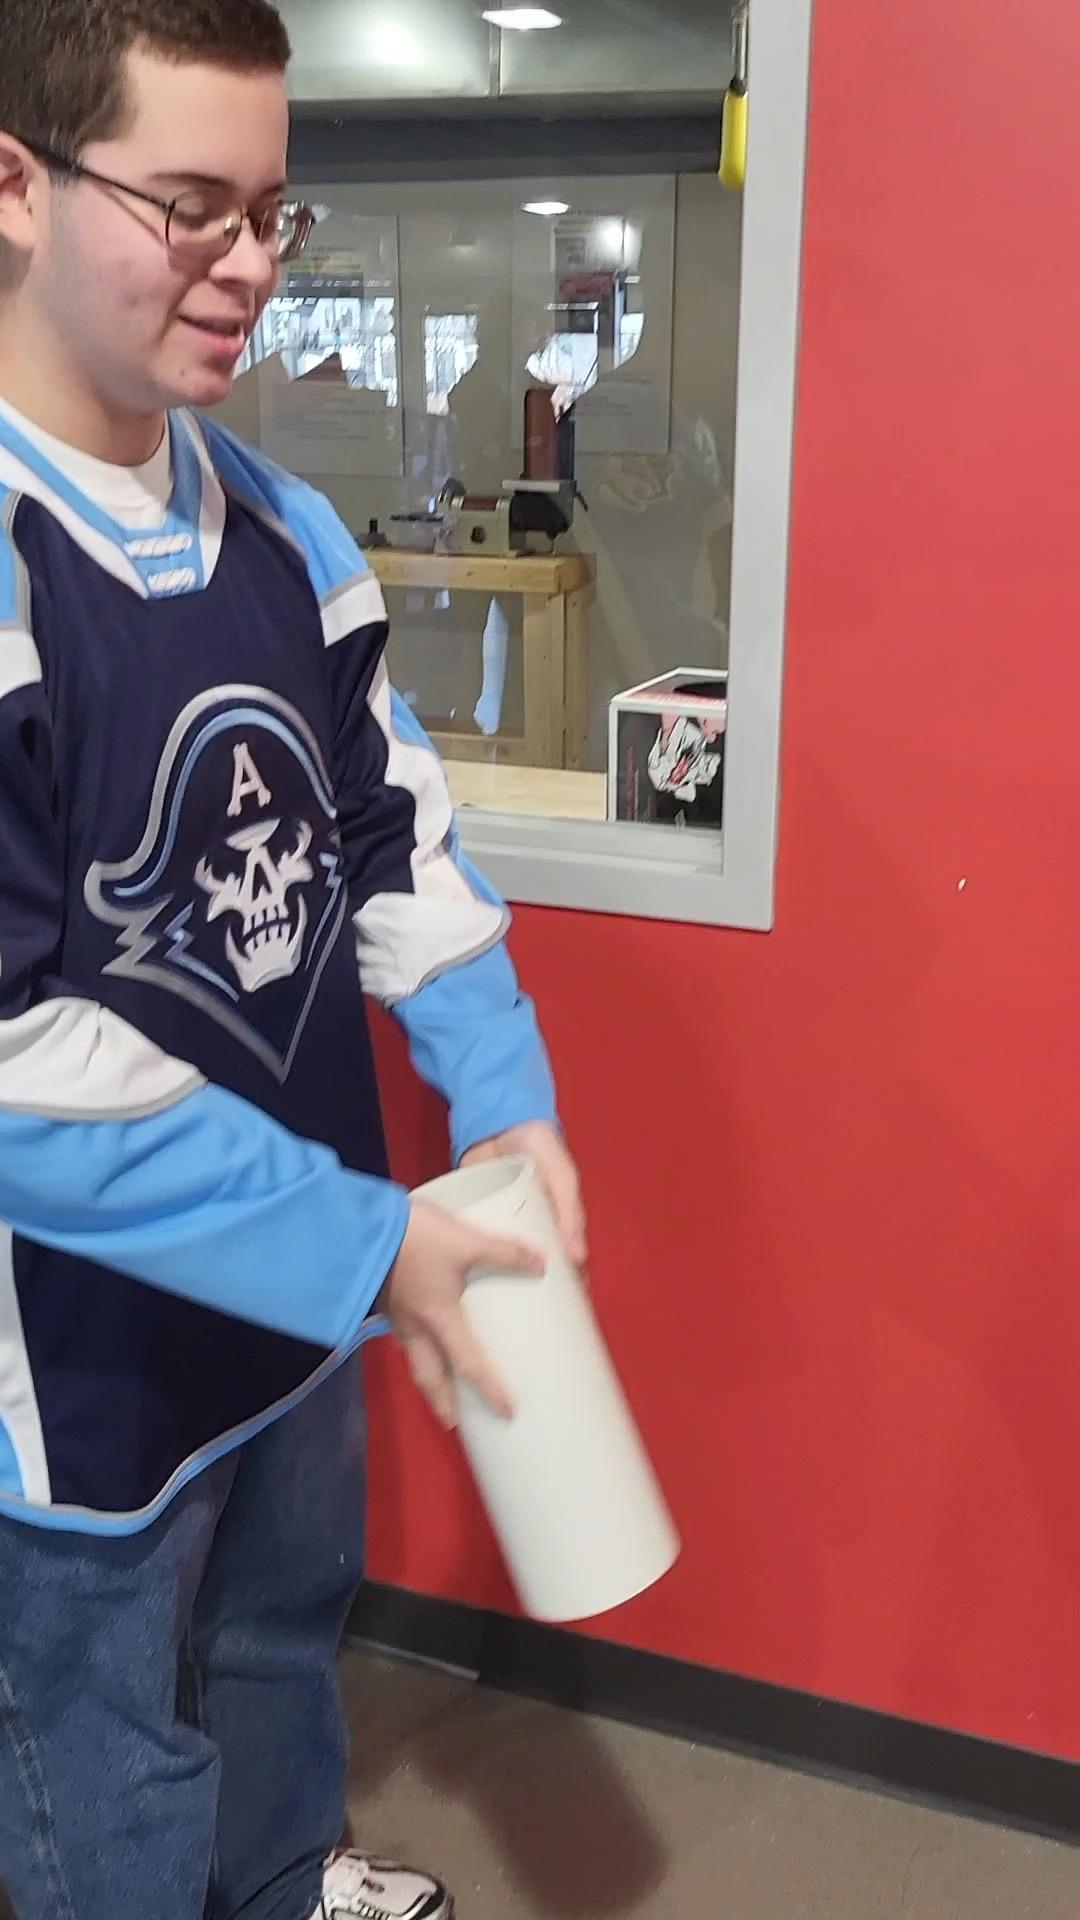coral: (390, 1147, 694, 1636)
